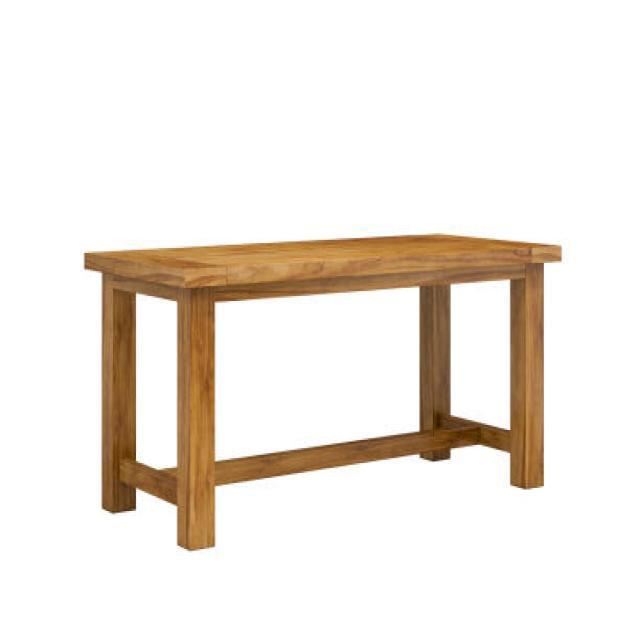table: (83, 232, 562, 550)
